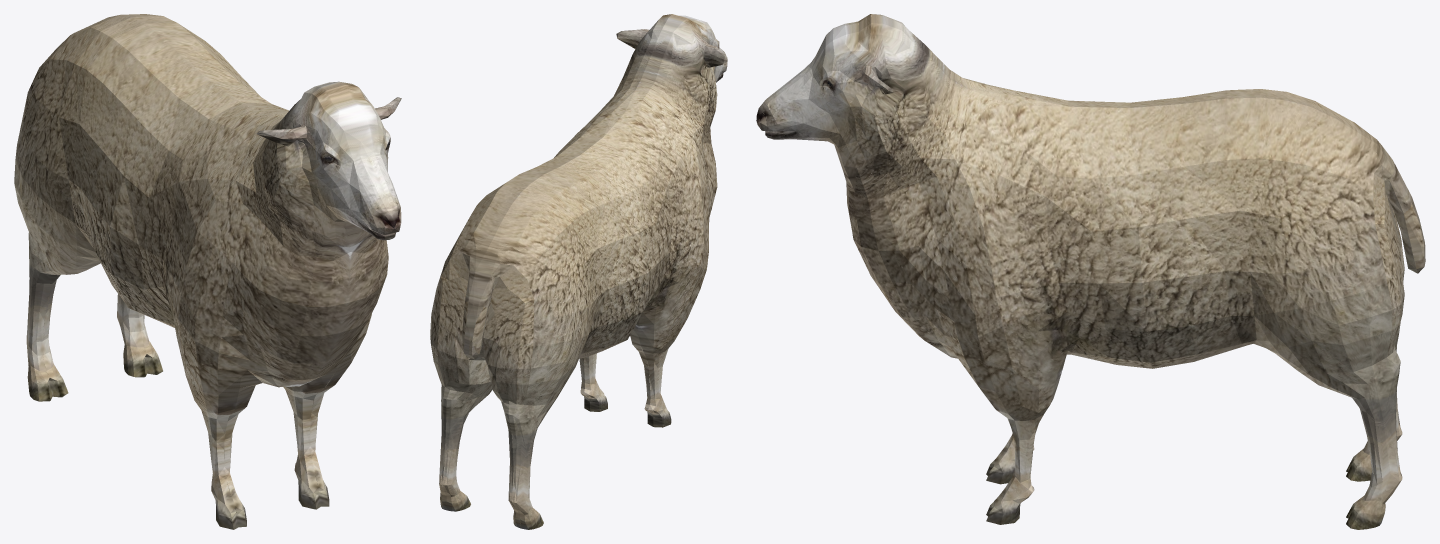
Rendered from Sheep-bl.obj.
The picture shows the model from 3 angles, left to right: view 1: azimuth 30°, elevation 25°; view 2: azimuth 150°, elevation 25°; view 3: azimuth 270°, elevation 25°; orthographic projection. The views are drawn at different scales.
Parts seen in each view (by area): view 1: Sheep; view 2: Sheep; view 3: Sheep.
Boxes of the visible parts, left/top/right/bottom form: Sheep: left=14, top=14, right=401, bottom=529; Sheep: left=430, top=14, right=727, bottom=529; Sheep: left=756, top=14, right=1425, bottom=529.
Size of the model in its own units: 1.31 by 3.12 by 3.95.
Materials: 1 (1 with a texture image).
